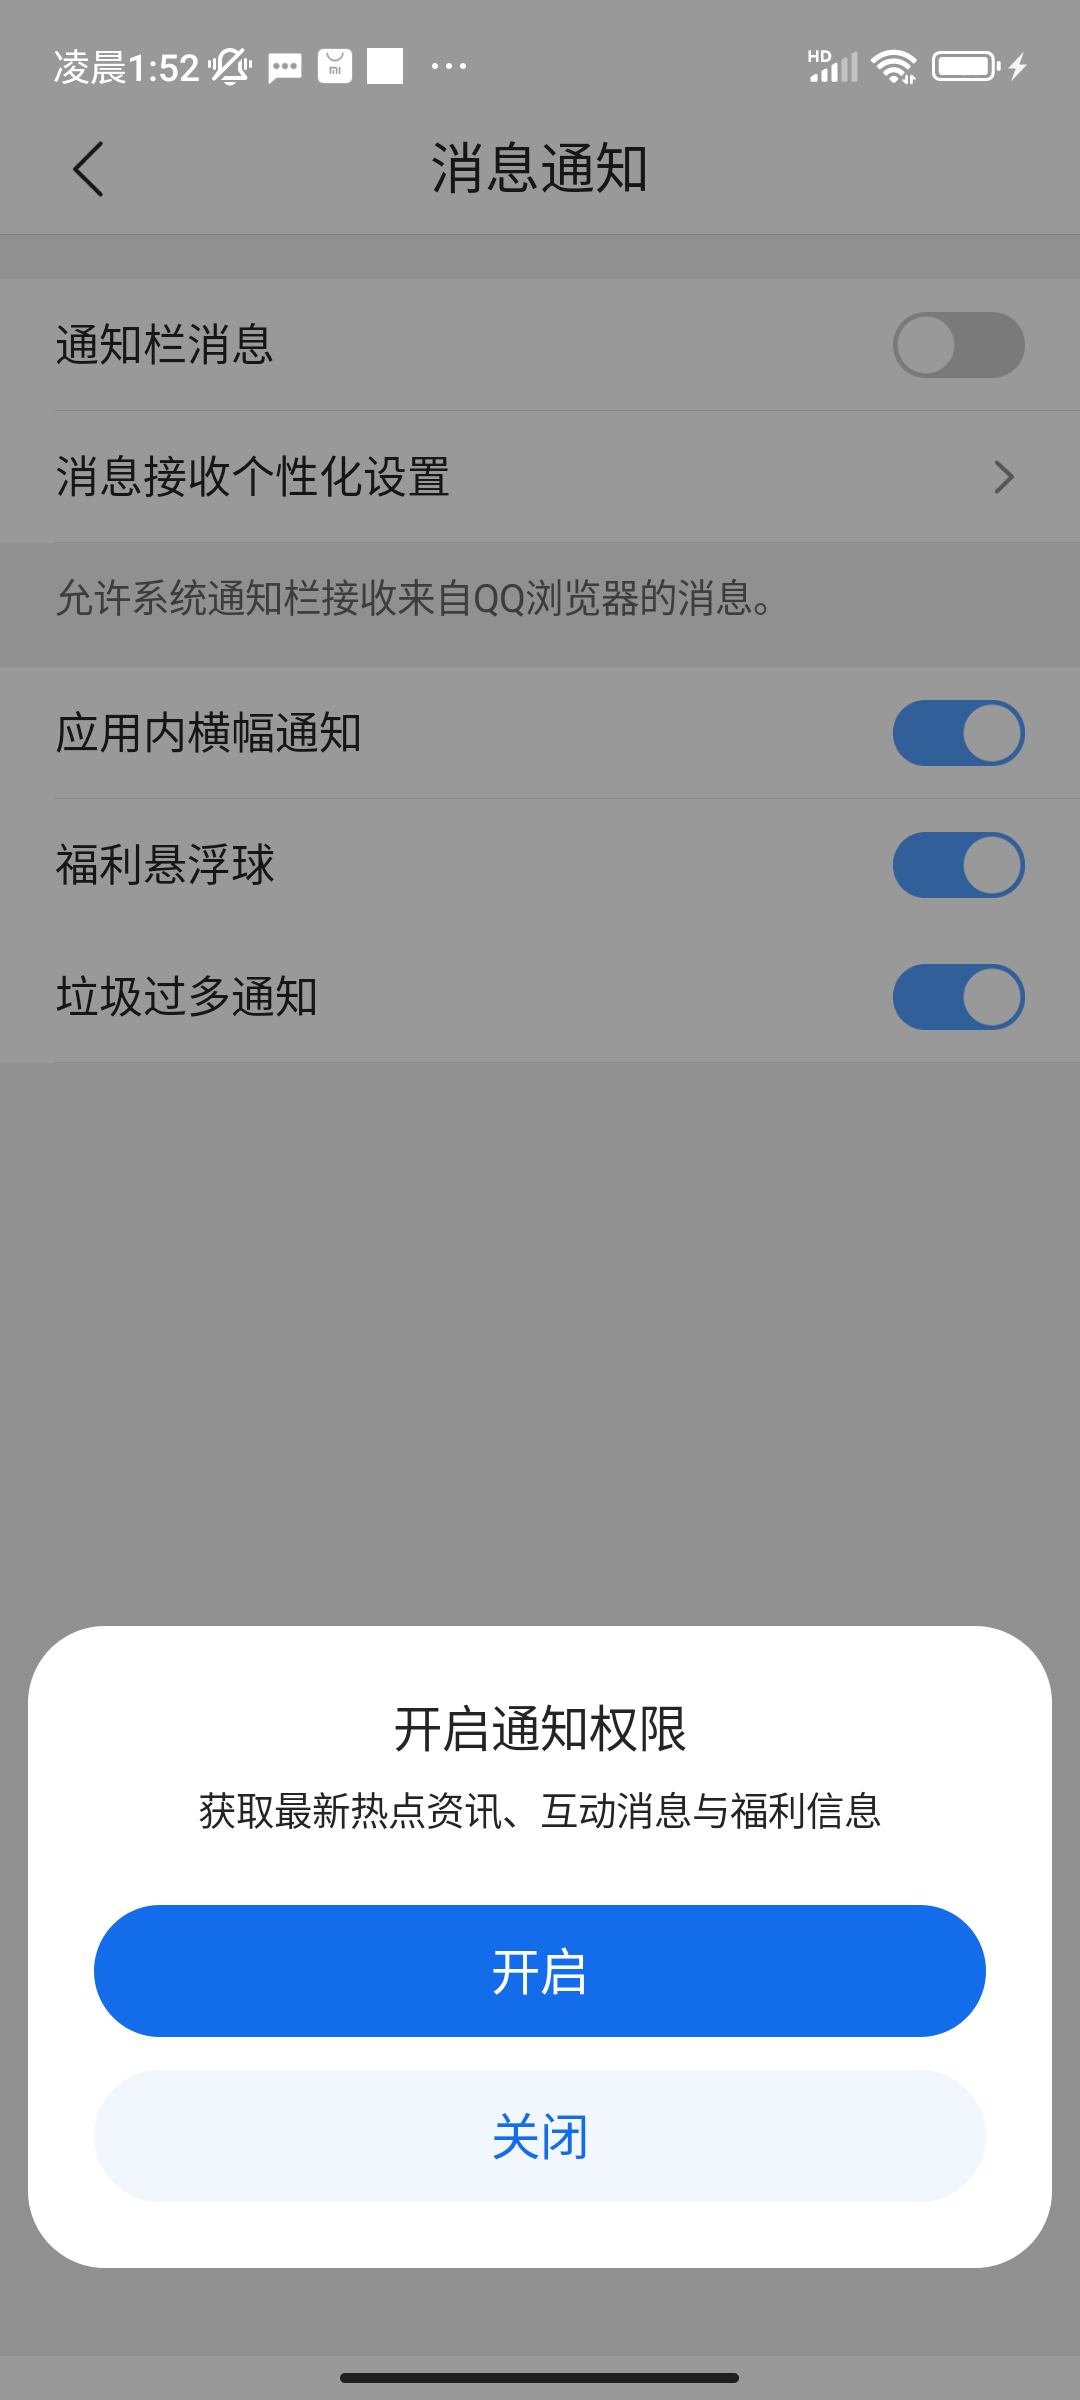ui_group: (20, 1624, 1049, 2259)
